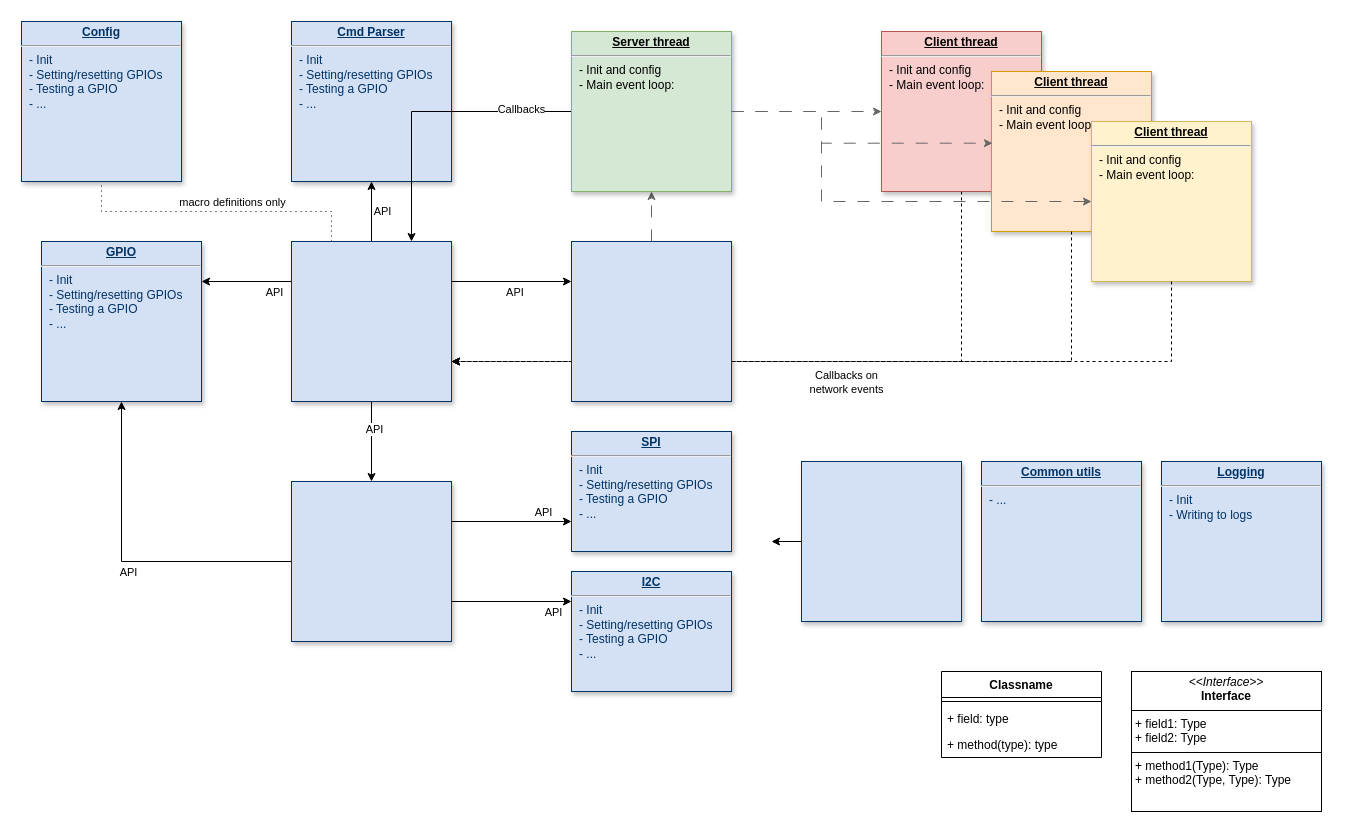
Image size: 1345x829. Some labels were removed from this diagram. The shapes that lost their labels are listed below. From the top down, each one's centre as x and y in pixels, then its label:
At [372,322]: "App ...".
At [652,322]: "Network - Init and config - Main event loop:".
At [372,562]: "Sensor - Init - Setting/resetting GPIOs - Testing a GPIO - ...".
At [882,542]: "List - ...".
